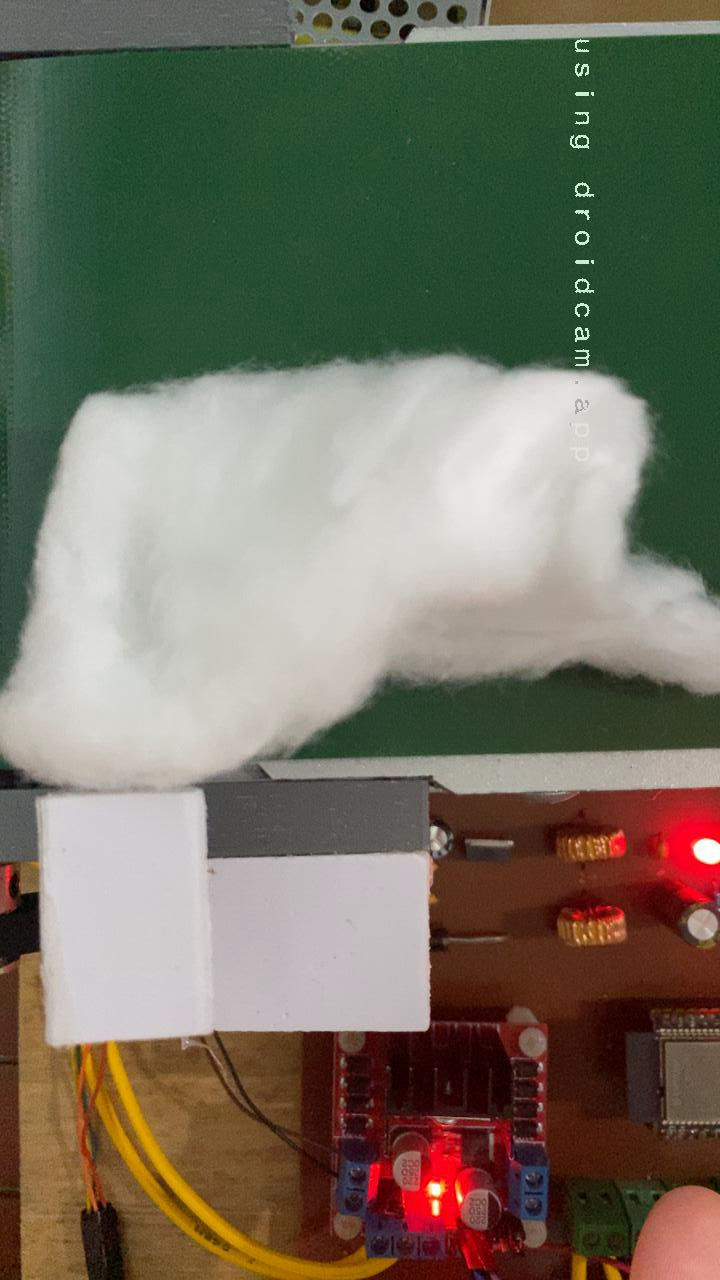cotton: (0, 347, 720, 750)
